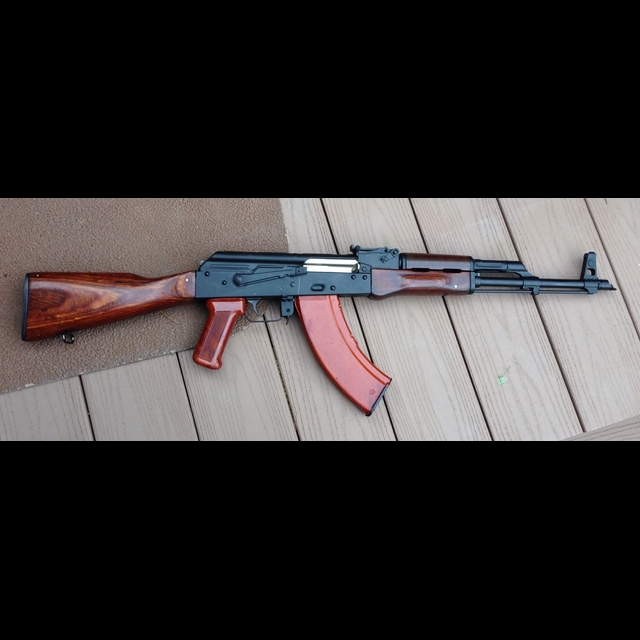AK47: (19, 237, 619, 416)
